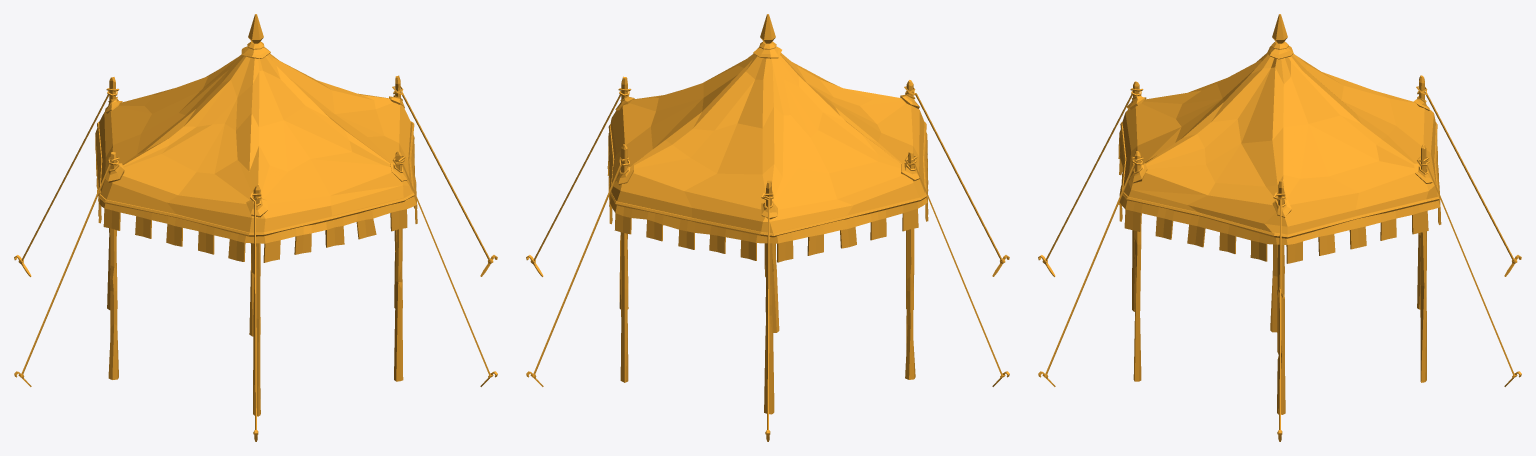
The model's file is SM_Tent_Hexagon_Striped_Construct_B_Roof_Fantasy.fbx.
3 renders of one model, left to right at view 1: azimuth 30°, elevation 25°; view 2: azimuth 150°, elevation 25°; view 3: azimuth 270°, elevation 25°, orthographic.
Visible parts, largest first — view 1: tent-hexagon-striped-construct-b-roof-fantasy; view 2: tent-hexagon-striped-construct-b-roof-fantasy; view 3: tent-hexagon-striped-construct-b-roof-fantasy.
Part boxes in pixels (x1,y1,x2,y2): tent-hexagon-striped-construct-b-roof-fantasy: (14,14,497,441); tent-hexagon-striped-construct-b-roof-fantasy: (526,14,1009,441); tent-hexagon-striped-construct-b-roof-fantasy: (1038,14,1521,441).
Size of the model in its own units: 8.07 by 5.31 by 7.02.
